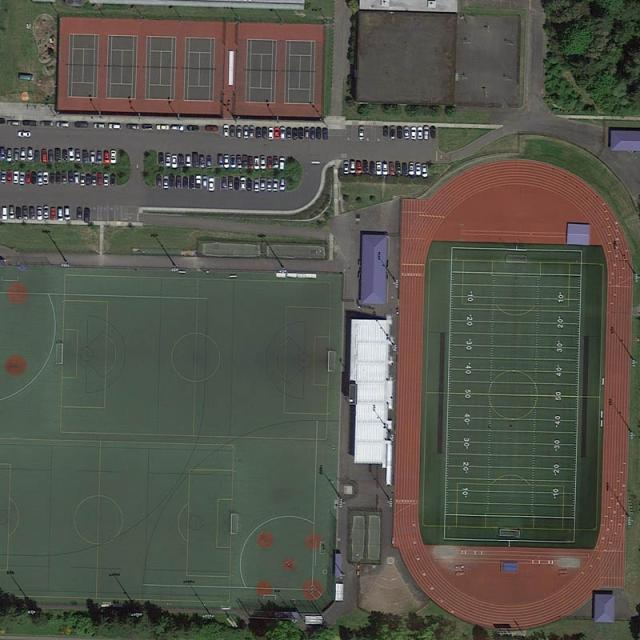vehicle: (42, 205, 50, 221), (222, 124, 230, 139), (83, 206, 90, 223), (18, 130, 32, 138), (410, 126, 418, 140), (395, 161, 402, 177), (28, 206, 35, 221), (195, 174, 202, 189), (322, 126, 329, 141), (192, 151, 198, 168), (19, 147, 26, 161), (103, 172, 110, 186), (163, 175, 170, 189), (199, 154, 206, 168), (278, 156, 285, 170), (242, 125, 249, 139), (56, 121, 70, 128), (358, 125, 365, 139), (421, 164, 428, 178), (31, 170, 37, 186), (260, 154, 266, 170), (22, 120, 38, 126), (423, 125, 429, 141), (279, 126, 286, 139), (41, 119, 54, 126), (382, 125, 389, 138), (343, 161, 350, 174), (37, 171, 43, 186), (48, 170, 54, 185), (82, 149, 88, 164), (209, 176, 215, 191), (227, 175, 233, 190), (236, 155, 242, 170), (126, 123, 141, 129), (388, 161, 394, 176), (16, 206, 22, 220), (36, 206, 42, 220), (50, 206, 56, 220), (64, 207, 70, 221), (61, 171, 67, 185), (110, 150, 116, 164), (91, 172, 97, 186), (172, 154, 178, 168), (178, 154, 185, 166), (246, 178, 252, 192), (266, 178, 272, 192), (272, 178, 278, 192), (292, 126, 298, 140), (236, 124, 242, 138), (156, 124, 170, 130), (74, 121, 88, 127), (350, 160, 356, 174), (362, 159, 368, 173), (375, 162, 382, 174), (402, 163, 408, 177), (1, 168, 6, 184), (56, 146, 61, 162), (248, 154, 253, 170), (9, 206, 15, 219), (6, 149, 12, 162), (27, 148, 33, 161), (110, 173, 116, 186), (158, 151, 164, 164), (165, 153, 171, 166), (206, 154, 212, 167), (255, 126, 261, 139), (205, 125, 218, 131), (108, 123, 121, 129), (7, 119, 20, 125), (397, 126, 403, 139), (404, 126, 410, 139), (429, 125, 435, 138), (415, 163, 421, 176), (142, 123, 153, 130), (57, 206, 62, 221), (74, 171, 79, 186), (80, 172, 85, 187), (98, 171, 103, 186), (260, 177, 265, 192), (230, 123, 235, 138), (409, 161, 414, 176), (55, 171, 61, 183), (234, 178, 240, 190), (279, 178, 285, 190), (93, 123, 105, 129), (382, 162, 388, 174), (22, 206, 27, 220), (77, 206, 82, 220), (20, 170, 25, 184), (26, 170, 31, 184), (42, 148, 47, 162), (48, 148, 53, 162), (69, 148, 74, 162), (75, 149, 80, 163), (69, 170, 74, 184), (189, 175, 194, 189), (218, 153, 223, 167), (254, 178, 259, 192), (230, 154, 235, 168), (242, 154, 247, 168), (267, 156, 272, 170), (273, 156, 278, 170), (274, 126, 279, 140), (269, 126, 274, 140), (390, 125, 395, 139), (357, 160, 362, 174), (370, 160, 375, 174), (298, 127, 304, 138), (14, 170, 19, 183), (43, 172, 48, 185), (34, 150, 39, 163), (62, 149, 67, 162), (90, 150, 95, 163), (97, 150, 102, 163), (104, 150, 109, 163), (157, 174, 162, 187), (170, 175, 175, 188), (202, 175, 207, 188), (241, 177, 246, 190), (254, 156, 259, 169), (311, 126, 316, 139), (262, 126, 267, 139), (186, 125, 199, 130), (186, 155, 191, 167), (182, 176, 187, 188), (317, 126, 322, 138), (171, 125, 183, 130), (418, 127, 423, 139), (14, 148, 18, 162), (177, 174, 181, 188), (225, 154, 229, 168), (287, 126, 291, 139), (250, 125, 254, 138), (2, 207, 6, 219), (1, 147, 5, 159), (7, 170, 11, 182), (86, 173, 90, 185), (222, 176, 226, 188), (305, 126, 309, 138)
